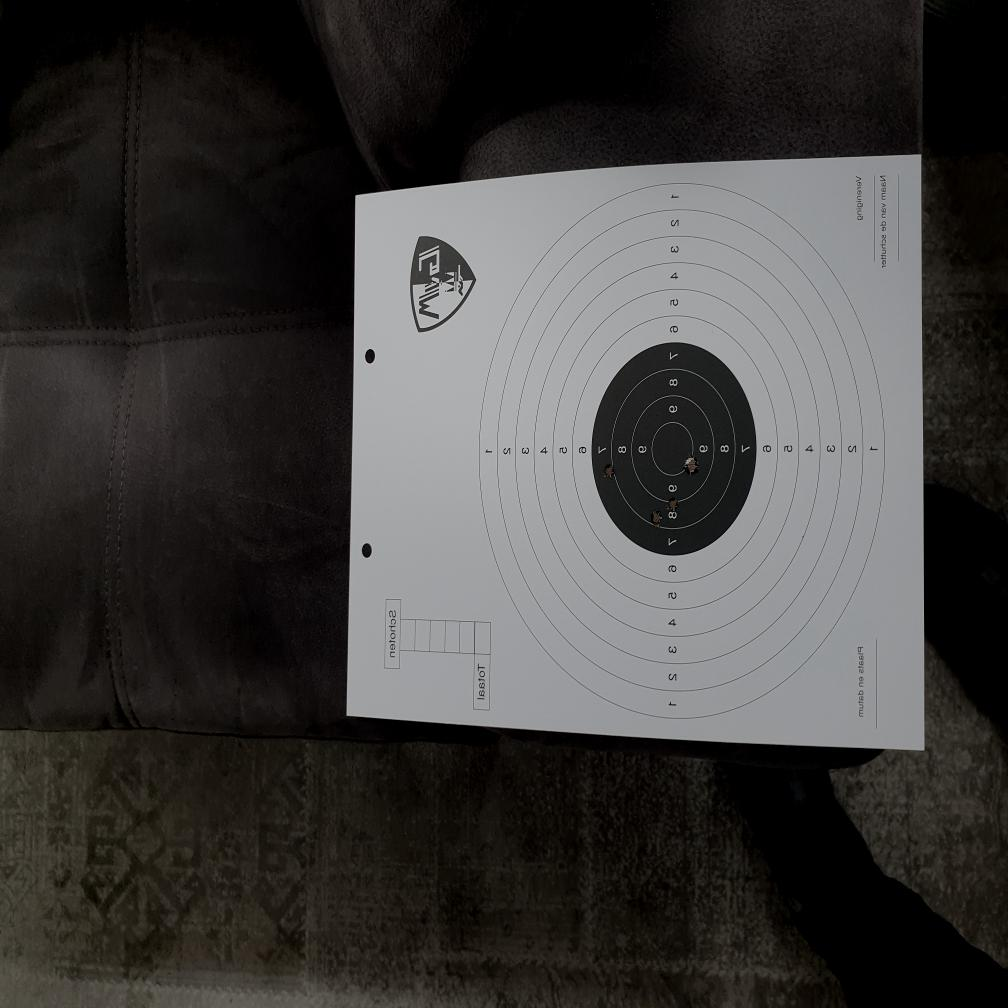10: (683, 454, 699, 478)
8: (650, 508, 663, 527), (603, 464, 616, 480)
9: (666, 497, 680, 512)
Target: (479, 183, 886, 720)
black_contour: (591, 343, 756, 557)
